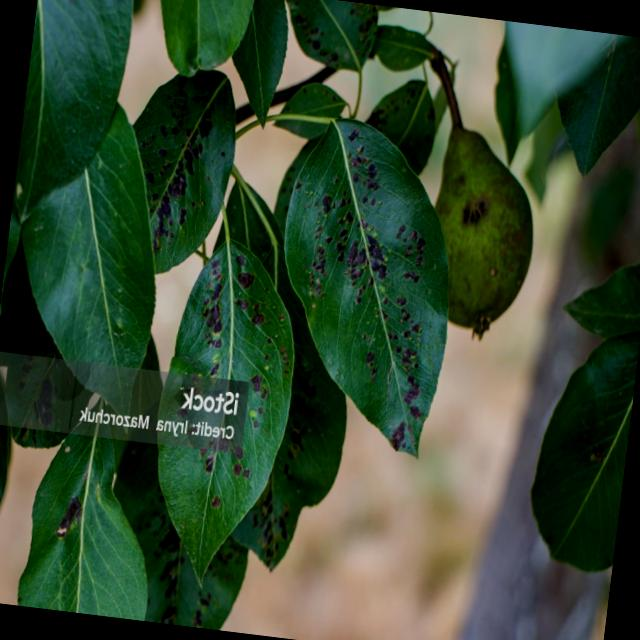leaf_spot: (285, 120, 448, 453), (134, 70, 235, 271)
